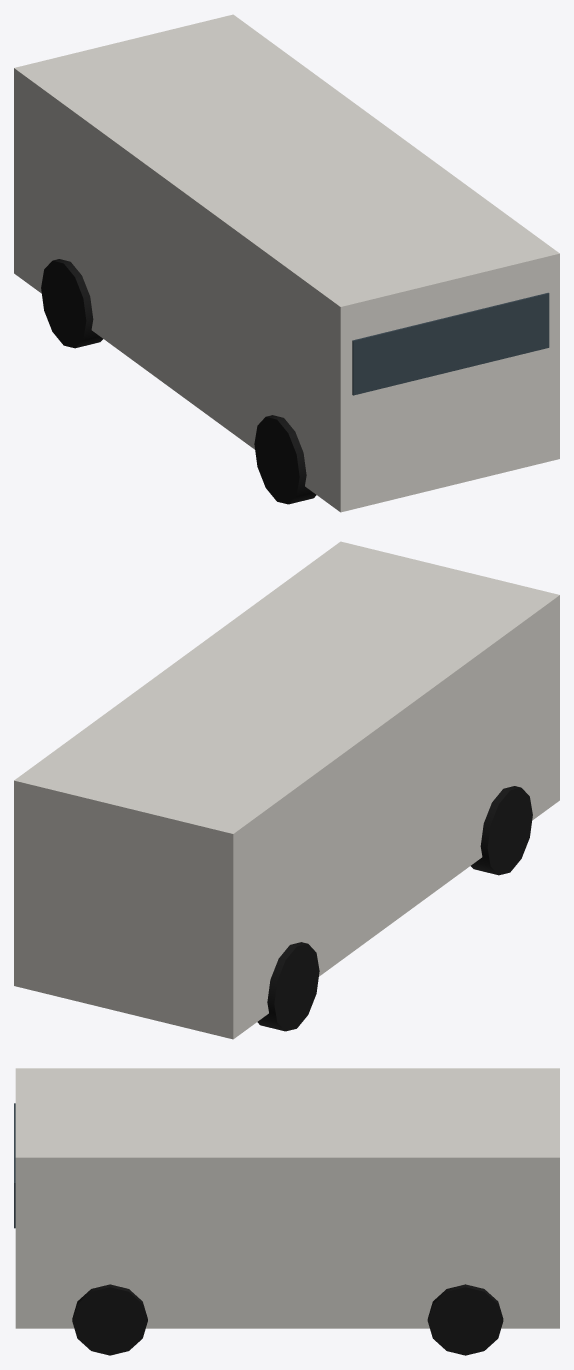
Rendered from van-1970s.glb.
The picture shows the model from 3 angles, top to bottom: view 1: azimuth 30°, elevation 25°; view 2: azimuth 150°, elevation 25°; view 3: azimuth 270°, elevation 25°; orthographic projection. The views are drawn at different scales.
Visible parts, largest first — view 1: kit-van-1970s; view 2: kit-van-1970s; view 3: kit-van-1970s.
Part boxes in pixels (box(x1,y1,x2,y2)): kit-van-1970s: box(14, 14, 559, 512); kit-van-1970s: box(14, 541, 559, 1039); kit-van-1970s: box(14, 1068, 559, 1355).
Bounding box in the file's own units: 2.02 × 1.94 × 4.91.
